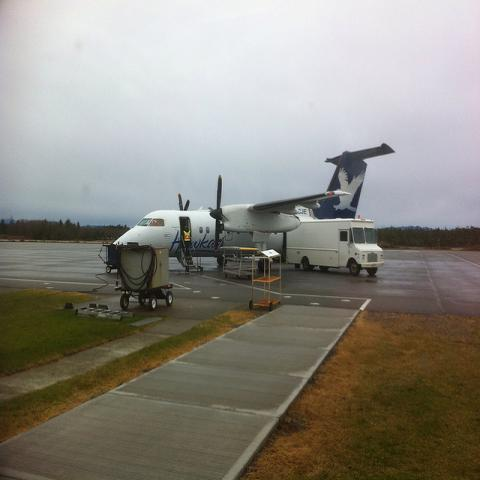truck: (286, 219, 385, 276)
